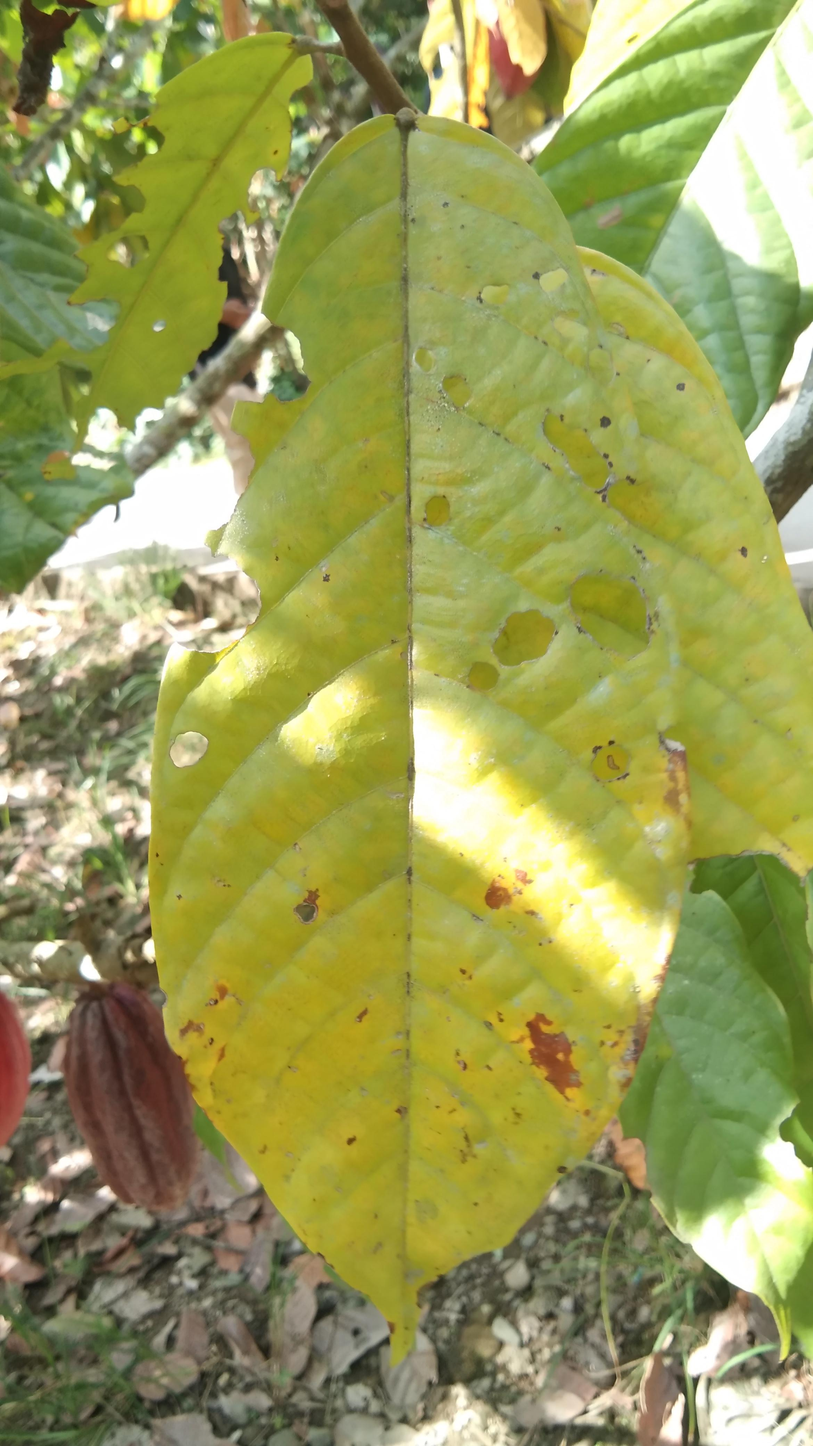deficiencia_potasio: (140, 106, 702, 1366)
